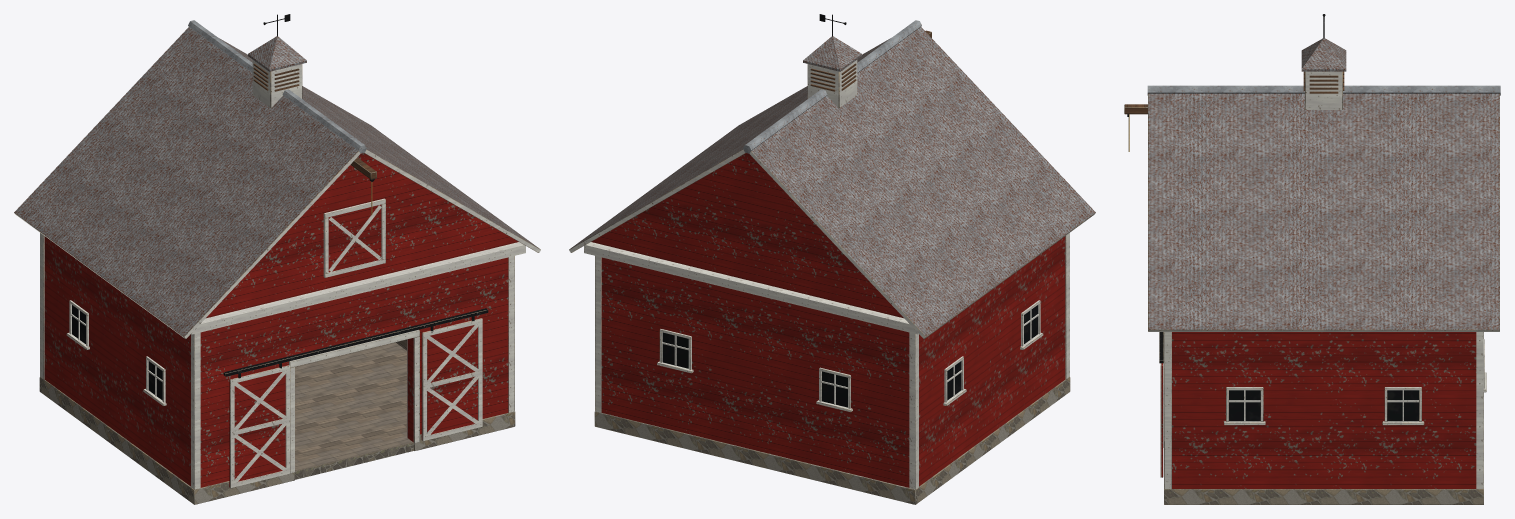
File: barn.glb
The picture shows the model from 3 angles, left to right: view 1: azimuth 30°, elevation 25°; view 2: azimuth 150°, elevation 25°; view 3: azimuth 270°, elevation 25°; orthographic projection. The views are drawn at different scales.
Visible parts, largest first — view 1: barn_details, barn_structure; view 2: barn_details, barn_structure; view 3: barn_details, barn_structure.
Boxes of the visible parts, left/top/right/bottom form: barn_details: left=14, top=14, right=540, bottom=504; barn_structure: left=44, top=236, right=525, bottom=487; barn_details: left=569, top=14, right=1095, bottom=504; barn_structure: left=584, top=236, right=1065, bottom=487; barn_details: left=1124, top=14, right=1500, bottom=504; barn_structure: left=1172, top=332, right=1476, bottom=488.
Size of the model in its own units: 13.46 by 14.2 by 11.87.
Materials: 11 (11 with a texture image).
